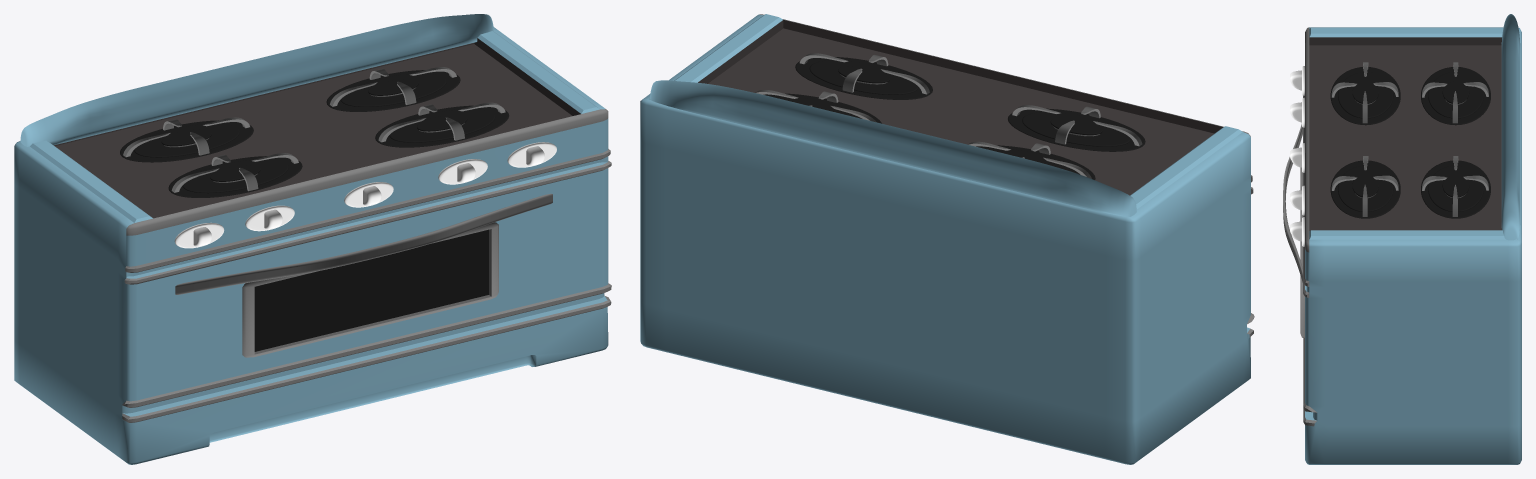
The model's file is stove01.gltf.
3 renders of one model, left to right at view 1: azimuth 30°, elevation 25°; view 2: azimuth 150°, elevation 25°; view 3: azimuth 270°, elevation 25°, orthographic. The views are drawn at different scales.
Visible parts, largest first — view 1: Stove_1301; view 2: Stove_1301; view 3: Stove_1301.
Part boxes in pixels (<box>): Stove_1301: <box>14,14,611,464</box>; Stove_1301: <box>640,14,1254,464</box>; Stove_1301: <box>1283,14,1521,464</box>.
Size of the model in its own units: 1.87 by 0.9873 by 0.8567.
